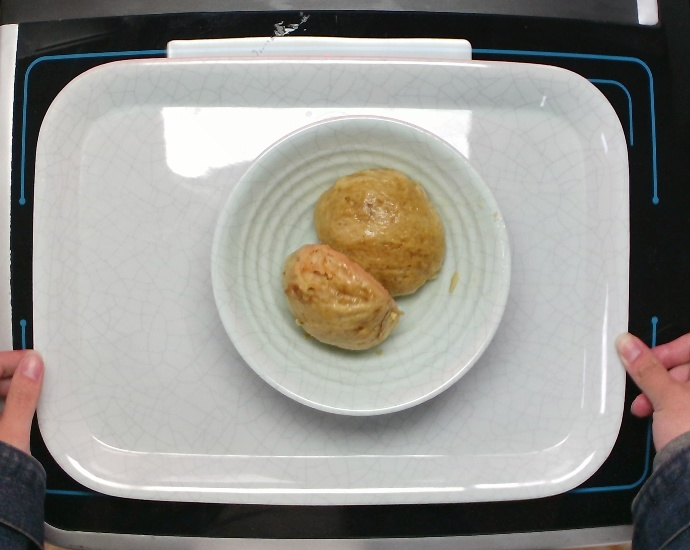JYsf-Xiao_Tang_Wan: (203, 108, 514, 421)
